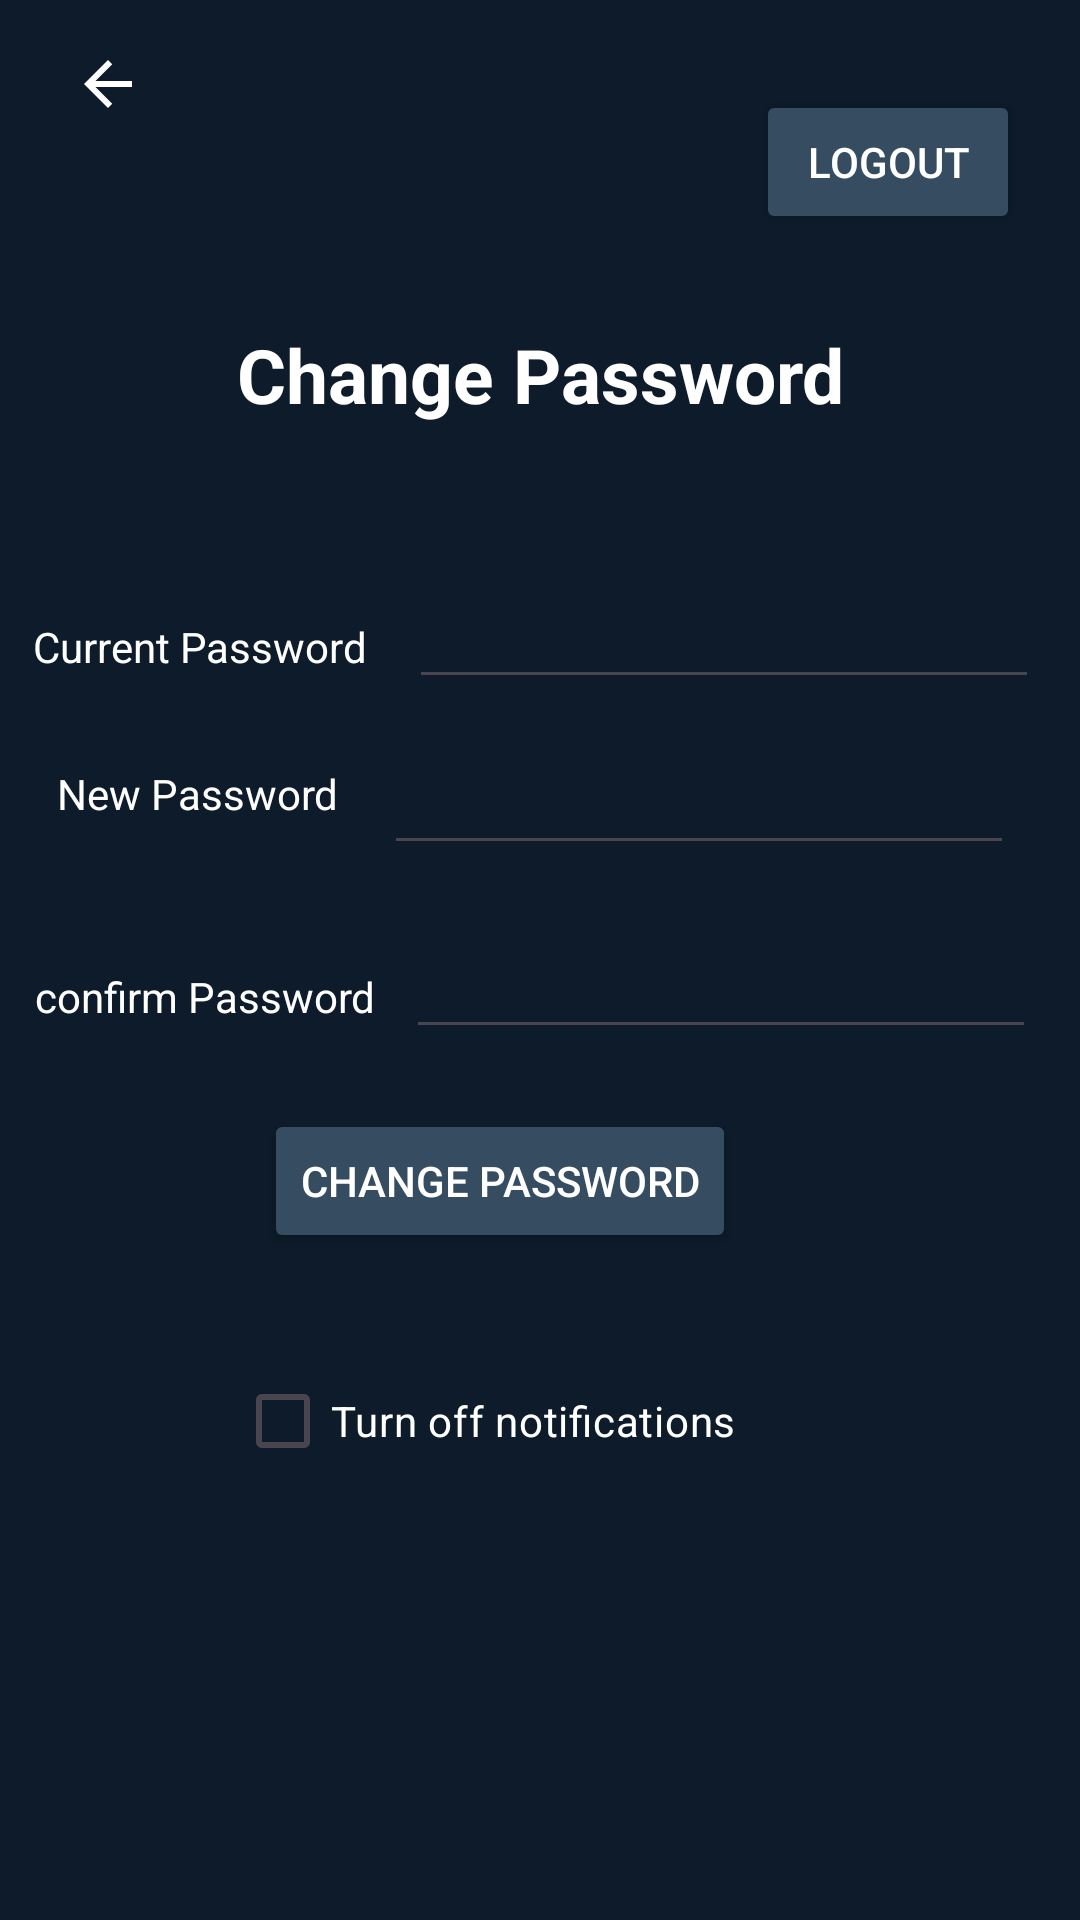

Where icons sit on this 1080w x 1920h app screen, as [x1=x1, y1=y1, x2=x2, y2=y2]:
back arrow: [x1=84, y1=60, x2=132, y2=108]
